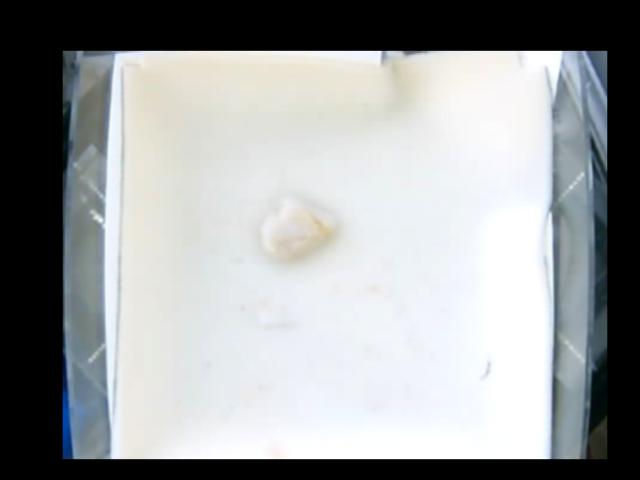Pebble: (258, 196, 335, 259)
